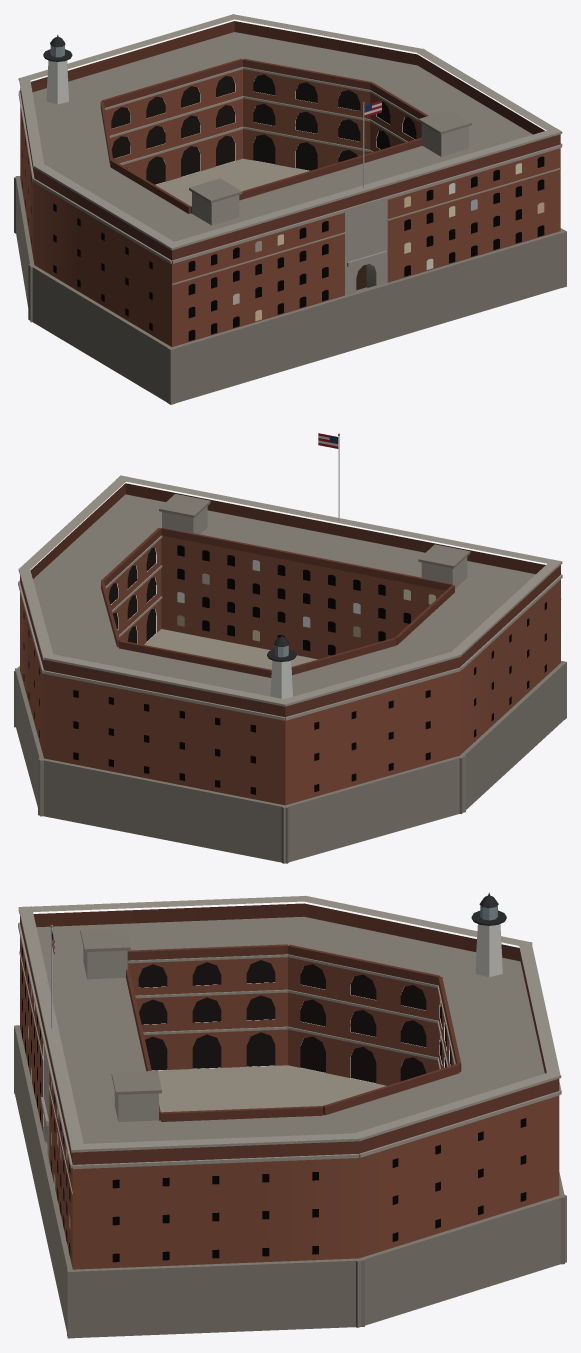
File: fortPoint_lod1.glb
3 views of the same model, one above another, from view 1: azimuth 30°, elevation 25°; view 2: azimuth 150°, elevation 25°; view 3: azimuth 270°, elevation 25° (orthographic). The views are drawn at different scales.
Parts seen in each view (by area): view 1: L1_brickred, L1_granite, L1_paving, L1_plain, L1_win, L1_concrete, L1_paint, L1_metal; view 2: L1_brickred, L1_granite, L1_paving, L1_plain, L1_win, L1_concrete, L1_paint, L1_metal; view 3: L1_brickred, L1_granite, L1_paving, L1_plain, L1_concrete, L1_paint, L1_win, L1_metal.
Boxes of the visible parts, left/top/right/bottom form: L1_brickred: left=20, top=21, right=560, bottom=346; L1_granite: left=14, top=14, right=566, bottom=404; L1_paving: left=32, top=32, right=532, bottom=241; L1_plain: left=22, top=74, right=416, bottom=330; L1_win: left=188, top=156, right=544, bottom=340; L1_concrete: left=155, top=158, right=309, bottom=206; L1_paint: left=46, top=60, right=68, bottom=104; L1_metal: left=43, top=34, right=364, bottom=188; L1_brickred: left=20, top=483, right=561, bottom=805; L1_granite: left=14, top=475, right=566, bottom=863; L1_paving: left=33, top=494, right=535, bottom=696; L1_plain: left=23, top=548, right=546, bottom=794; L1_win: left=177, top=545, right=435, bottom=655; L1_concrete: left=144, top=629, right=317, bottom=669; L1_paint: left=270, top=660, right=293, bottom=699; L1_metal: left=267, top=436, right=339, bottom=661; L1_brickred: left=19, top=903, right=559, bottom=1269; L1_granite: left=14, top=895, right=566, bottom=1338; L1_paving: left=36, top=916, right=544, bottom=1143; L1_plain: left=112, top=960, right=526, bottom=1262; L1_concrete: left=152, top=1065, right=386, bottom=1112; L1_paint: left=475, top=924, right=502, bottom=977; L1_win: left=22, top=946, right=70, bottom=1257; L1_metal: left=51, top=892, right=506, bottom=1028.
Size of the model in its own units: 65.99 by 34.45 by 59.64.
